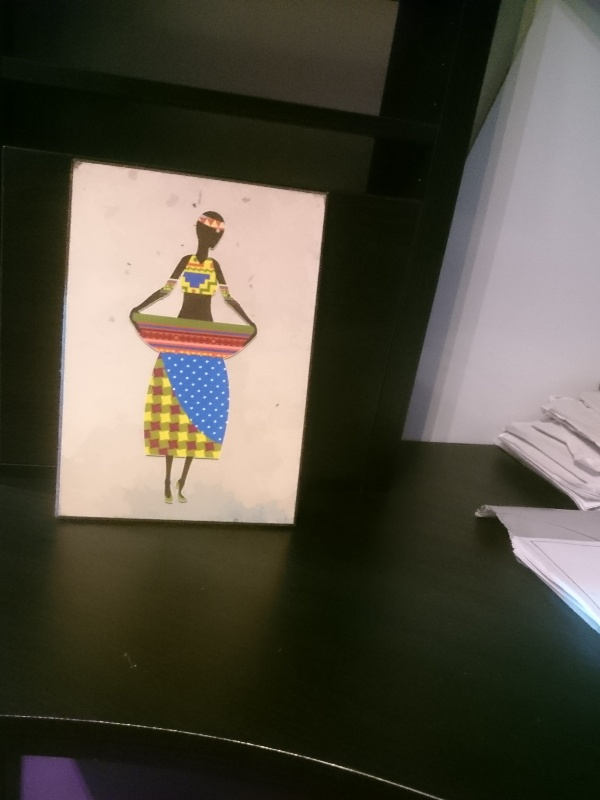my image: (53, 164, 331, 520)
